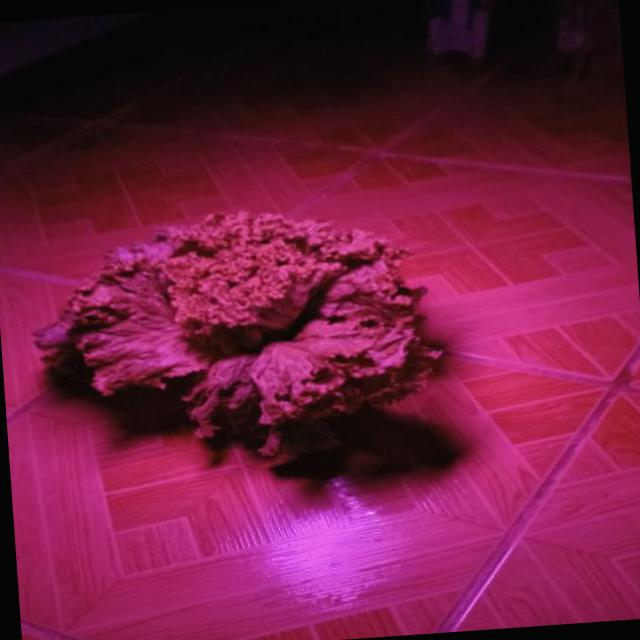Lettuce-Ready-to-Harvest: (20, 187, 449, 481)
